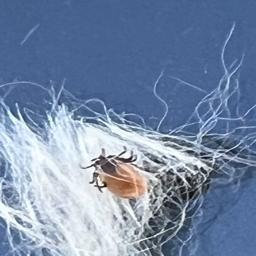Ixodes scapularis: (79, 145, 144, 199)
